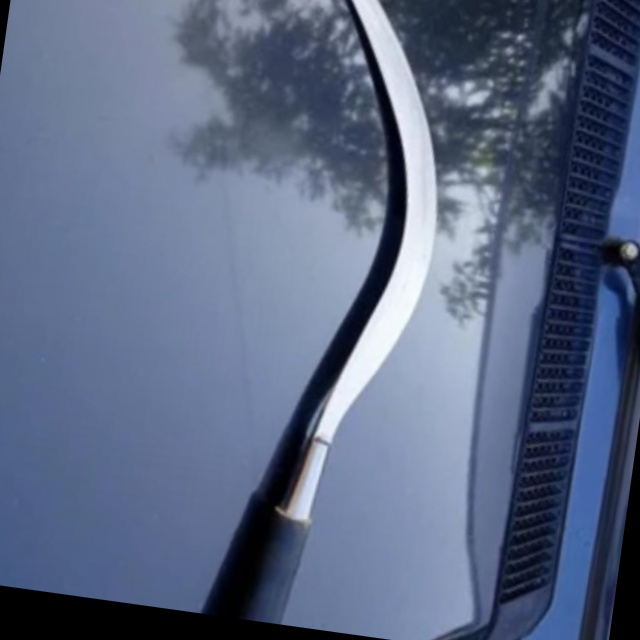Sharp-Object: (141, 0, 481, 637)
